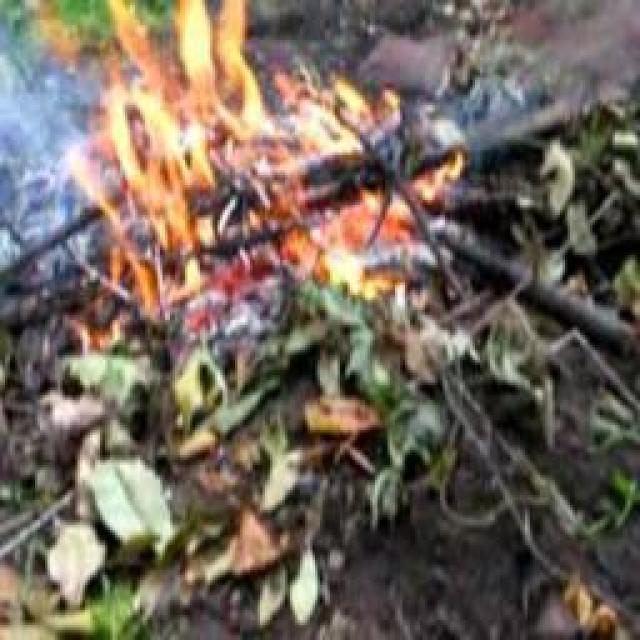Fire: (78, 9, 370, 307)
